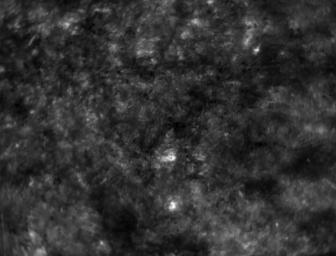landmine: (163, 151, 177, 163)
